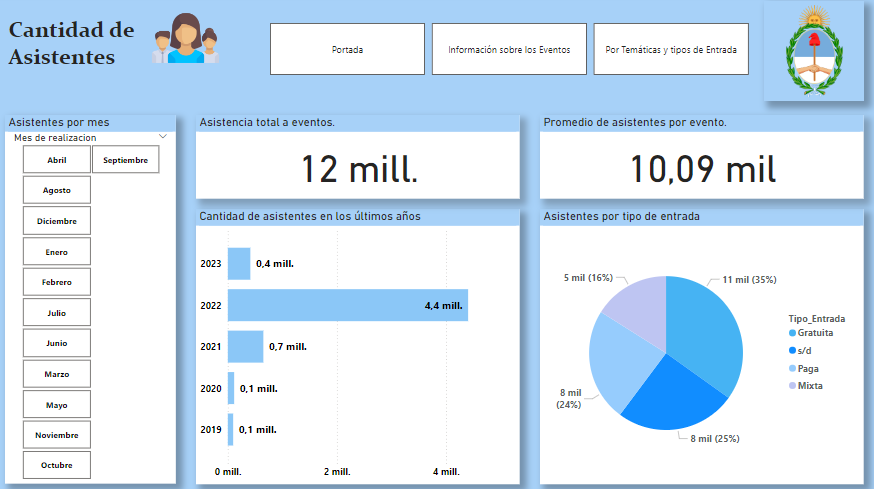

This screenshot's page, from the dashboard's own definition file:
{"tool":"powerbi","page":{"name":"Cantidad de Asistentes","canvas":[1280,720],"ordinal":1},"visuals":[{"type":"slicer","title":"Asistentes por mes ","fields":{"Values":["Fecha.Mes de realizacion"]},"box":[10.1,173.5,247.2,533.5],"z":0},{"type":"barChart","title":"Cantidad de asistentes en los últimos años","fields":{"Category":["Fecha.Ultimo año de realizacion"],"Y":["Sum(Entradas.Cantidad aprox de asistentes)"]},"box":[286.3,309.4,468.4,397.6],"z":1000},{"type":"pieChart","title":"Asistentes por tipo de entrada","fields":{"Category":["Entradas.Tipo_Entrada"],"Y":["_DAX.Asistentes promedio por Tipo de Entrada"]},"box":[783.6,309.4,468.4,397.6],"z":2000},{"type":"image","box":[1107.7,8.6,144.7,144.7],"z":3000},{"type":"textbox","box":[10.3,25.8,344.5,89.6],"z":4000},{"type":"image","box":[118.9,8.6,304.9,106.8],"z":5000},{"type":"pageNavigator","box":[393.3,40.5,694,75.2],"z":6000},{"type":"card","title":"Asistencia total a eventos.","fields":{"Values":["Sum(Entradas.Cantidad aprox de asistentes)"]},"box":[286.3,173.5,468.4,121.4],"z":7000},{"type":"card","title":"Promedio de asistentes por evento.","fields":{"Values":["Avg(Entradas.Cantidad aprox de asistentes)"]},"box":[783.6,173.5,468.4,121.4],"z":8000}]}

Visuals, with their boxes in screenshot pixels (x1, y1, x2, y2), scaled from the page's 1280x720 canvas onto the 874x489 screenshot:
"Asistentes por mes " slicer: <bbox>7, 118, 176, 480</bbox>
"Cantidad de asistentes en los últimos años" barChart: <bbox>195, 210, 515, 480</bbox>
"Asistentes por tipo de entrada" pieChart: <bbox>535, 210, 855, 480</bbox>
image: <bbox>756, 6, 855, 104</bbox>
textbox: <bbox>7, 18, 242, 78</bbox>
image: <bbox>81, 6, 289, 78</bbox>
pageNavigator: <bbox>269, 28, 742, 79</bbox>
"Asistencia total a eventos." card: <bbox>195, 118, 515, 200</bbox>
"Promedio de asistentes por evento." card: <bbox>535, 118, 855, 200</bbox>
